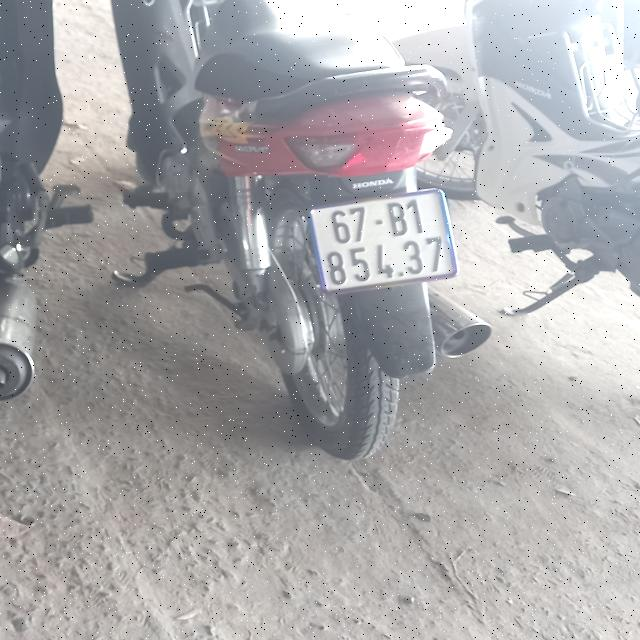1: (406, 198, 424, 233)
3: (404, 241, 423, 275)
4: (376, 243, 394, 278)
5: (351, 247, 371, 283)
6: (332, 210, 351, 244)
7: (350, 206, 367, 242), (426, 236, 443, 271)
8: (325, 250, 346, 286)
B: (387, 202, 409, 237)
